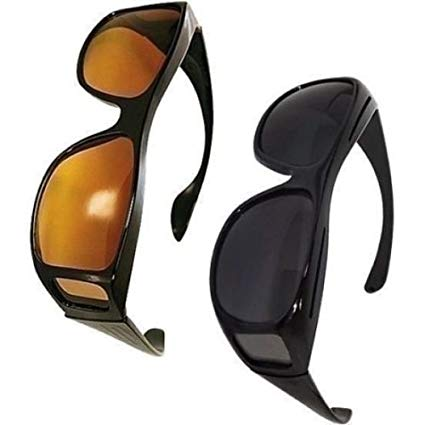sunglasses: (210, 75, 402, 424), (38, 3, 199, 356)
